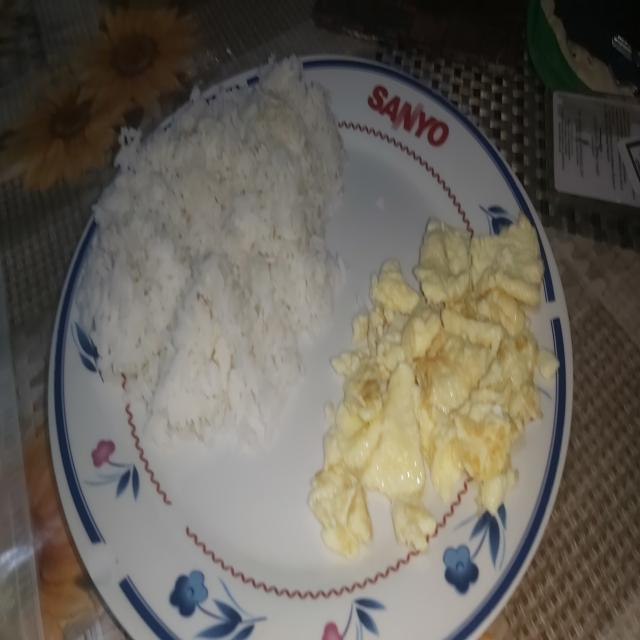Chicken -Chicken Inasal-: (88, 54, 342, 443)
